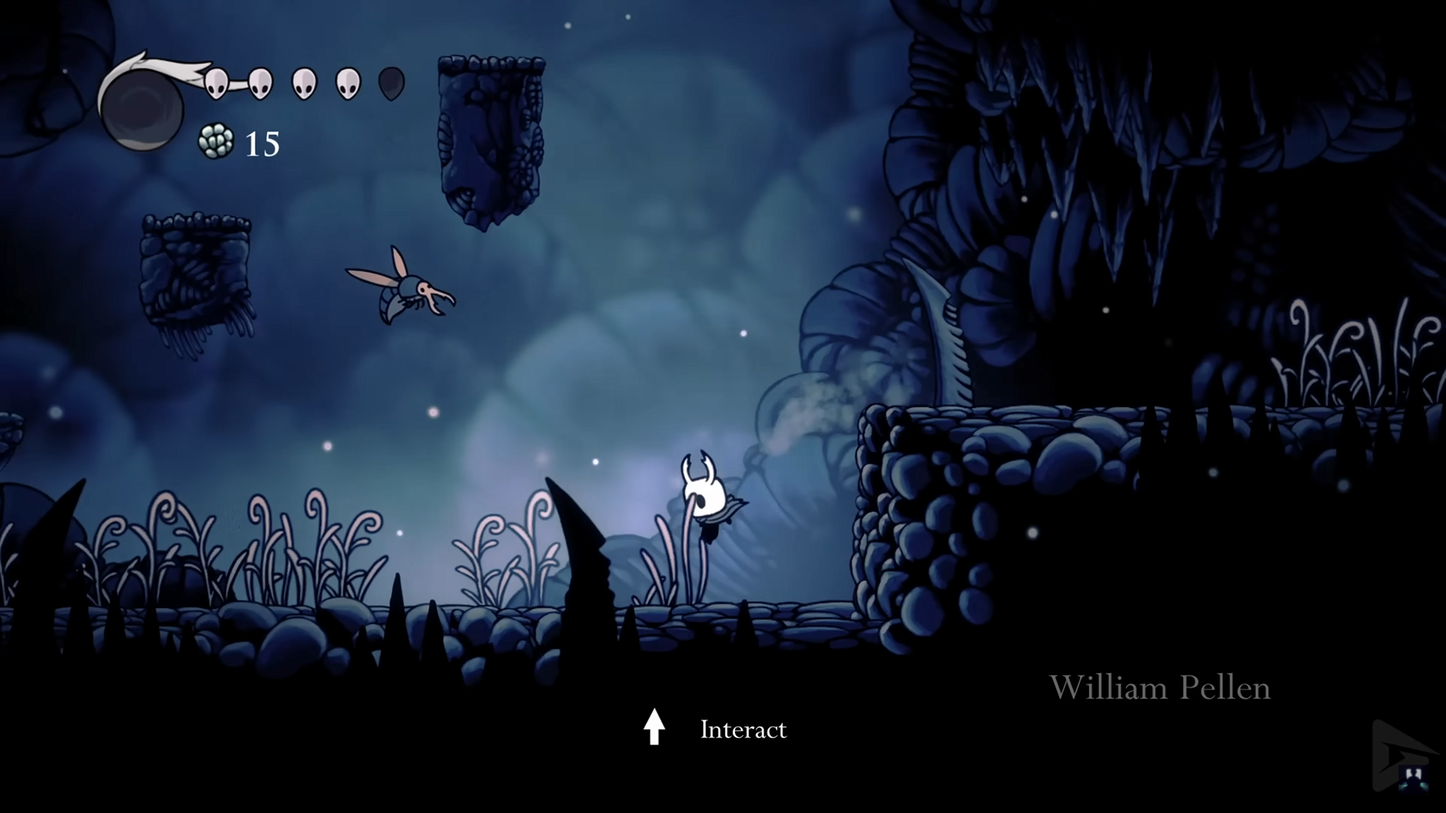HK: (673, 445, 736, 556)
